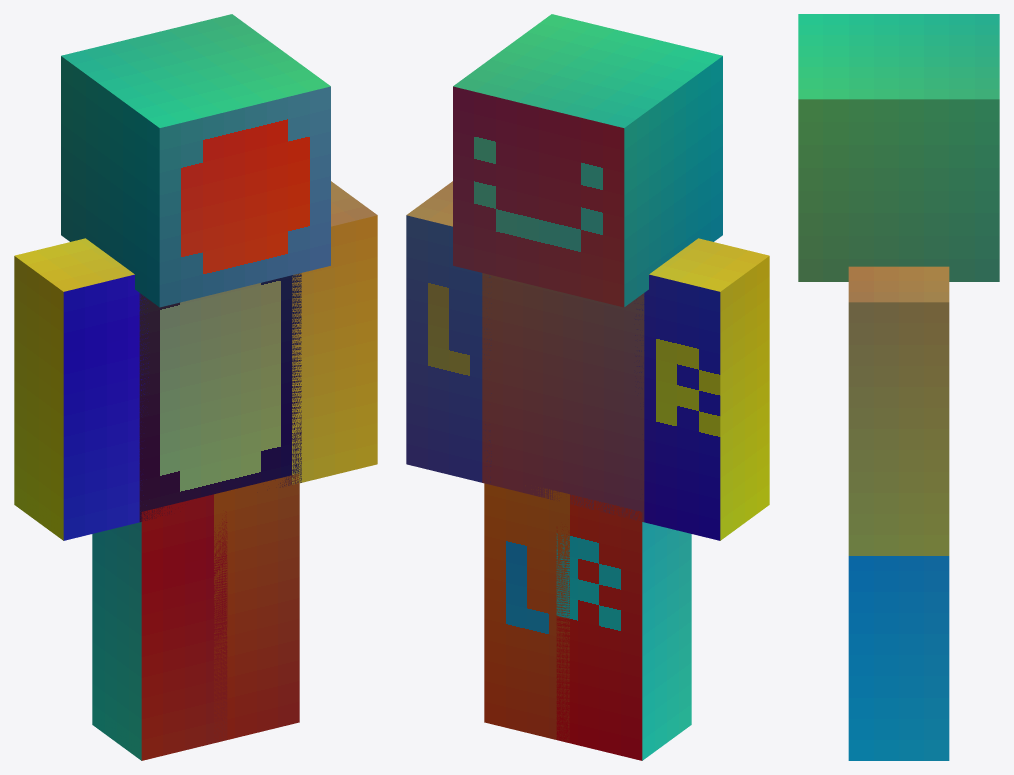
The model's file is wide UV.obj.
3 views of the same model, side by side, from view 1: azimuth 30°, elevation 25°; view 2: azimuth 150°, elevation 25°; view 3: azimuth 270°, elevation 25° (orthographic).
Parts seen in each view (by area): view 1: Hat Layer, Left Arm Layer, Body Layer, Left Leg Layer, Right Arm Layer, Right Leg Layer; view 2: Hat Layer, Left Arm Layer, Body Layer, Left Leg Layer, Right Leg Layer, Right Arm Layer; view 3: Hat Layer, Right Arm Layer, Right Leg Layer.
Boxes of the visible parts, box(x1,y1,x2,y2) form: Hat Layer: box(61, 14, 330, 307); Left Arm Layer: box(14, 238, 148, 540); Body Layer: box(139, 273, 301, 522); Left Leg Layer: box(92, 494, 227, 760); Right Arm Layer: box(292, 181, 377, 484); Right Leg Layer: box(214, 473, 299, 742); Hat Layer: box(453, 14, 722, 307); Left Arm Layer: box(635, 238, 769, 540); Body Layer: box(482, 273, 644, 522); Left Leg Layer: box(556, 494, 691, 760); Right Leg Layer: box(484, 483, 569, 742); Right Arm Layer: box(406, 181, 491, 482); Hat Layer: box(798, 14, 999, 281); Right Arm Layer: box(848, 266, 949, 555); Right Leg Layer: box(848, 556, 949, 760).
Size of the model in its own units: 1.03 by 2.05 by 0.5625.
1 material, 1 textured.
